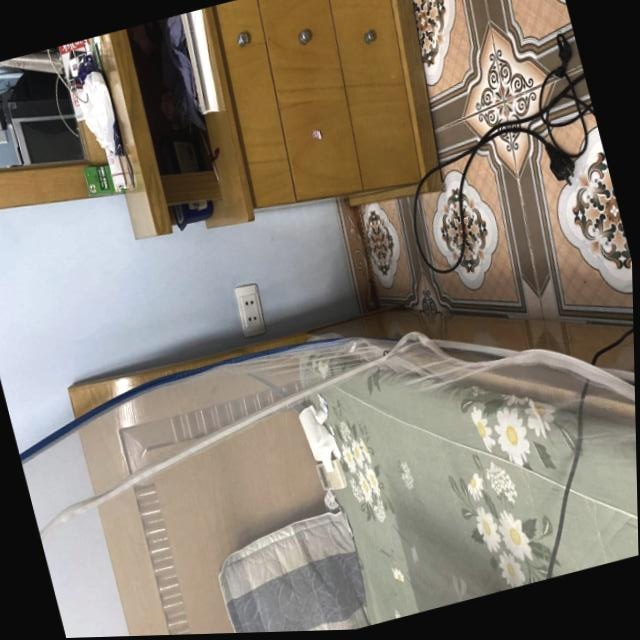outlet: (231, 282, 268, 339)
